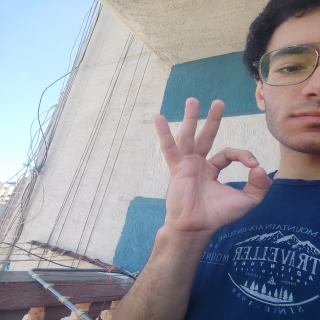Space: (145, 92, 276, 222)
